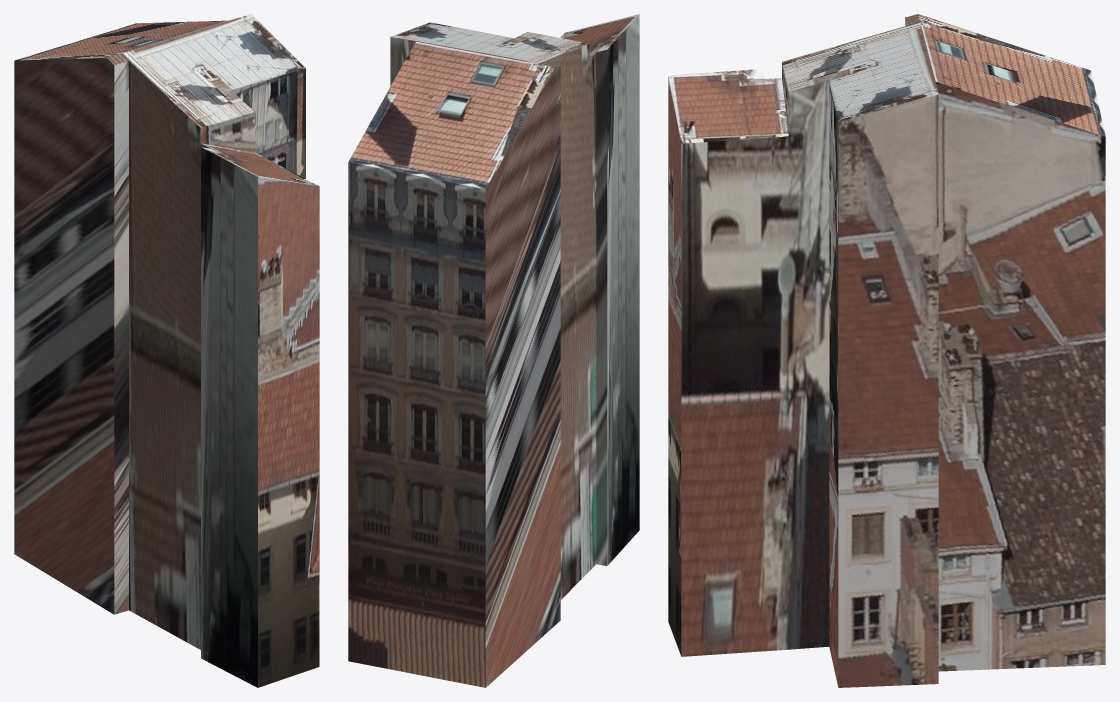
3 views of the same model, side by side, from view 1: azimuth 30°, elevation 25°; view 2: azimuth 150°, elevation 25°; view 3: azimuth 270°, elevation 25° (orthographic). The views are drawn at different scales.
Parts seen in each view (by area): view 1: Z_UP; view 2: Z_UP; view 3: Z_UP.
Part boxes in pixels (x1,y1,x2,y2): Z_UP: (14,14,319,687); Z_UP: (348,14,639,687); Z_UP: (668,14,1105,687).
Bounding box in the file's own units: 8.65 × 26.36 × 17.72.
2 materials, 1 textured.
